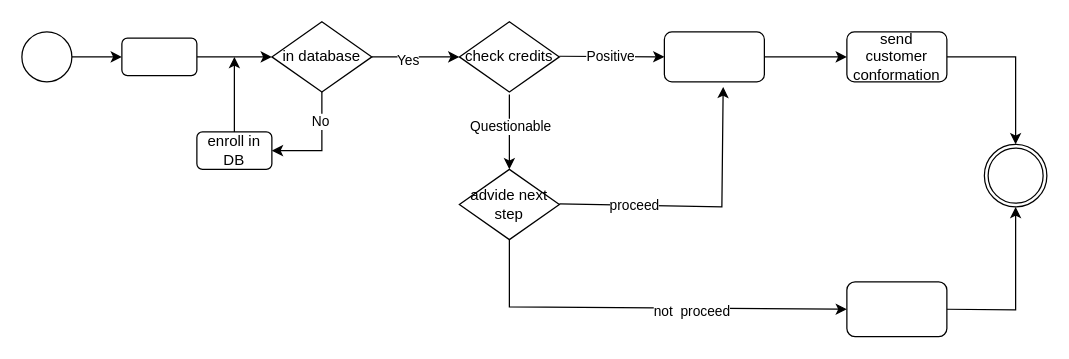
This 1069x359 diagram has some shape labels left out. The shapes that lost their labels are listed below. From the top down, each one's centre as x and y in pixels, then its label:
the point at 159,56: oeder received
the point at 713,56: requirements list production
the point at 896,309: send customer not fulfilled
